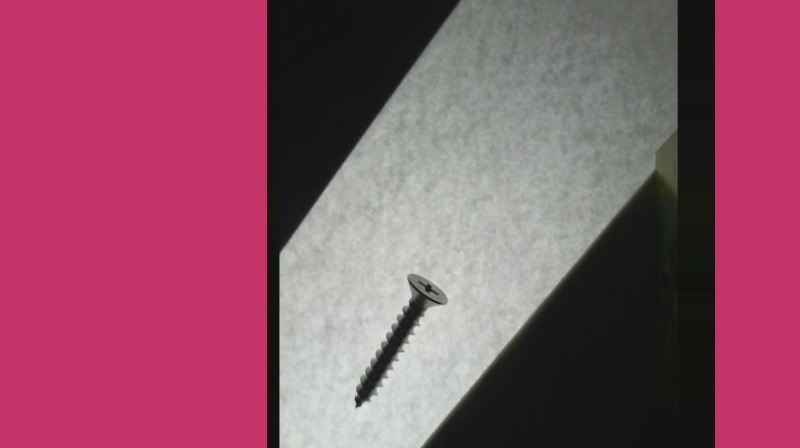S001: (348, 270, 448, 409)
